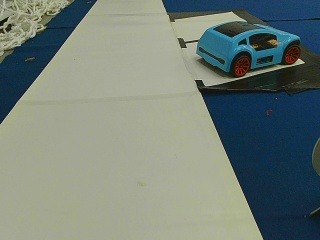car: (196, 22, 302, 75)
